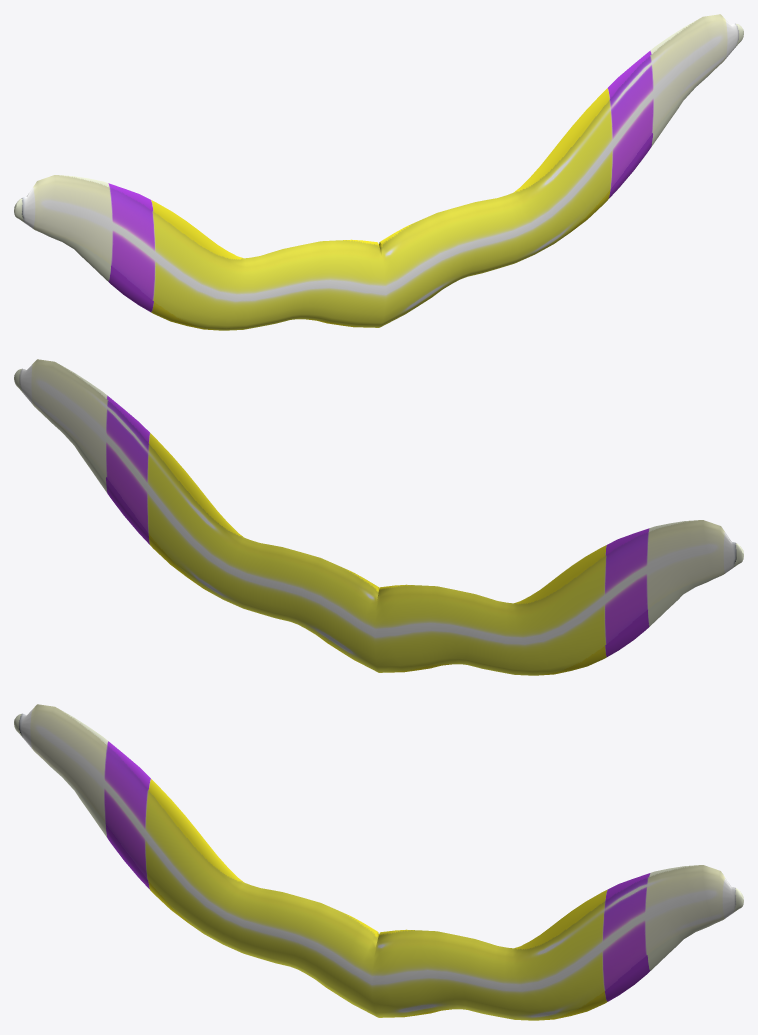
The model's file is Boomerang_12_Thunderbolt.obj.
3 renders of one model, top to bottom at view 1: azimuth 30°, elevation 25°; view 2: azimuth 150°, elevation 25°; view 3: azimuth 330°, elevation 25°, orthographic.
Visible parts, largest first — view 1: Boomerang_12_Thunderbolt; view 2: Boomerang_12_Thunderbolt; view 3: Boomerang_12_Thunderbolt.
Boxes of the visible parts, x1,y1,x2,y2 form: Boomerang_12_Thunderbolt: (14,14,743,330); Boomerang_12_Thunderbolt: (14,359,743,675); Boomerang_12_Thunderbolt: (14,704,743,1020).
Bounding box in the file's own units: 2.05 × 0.6227 × 0.0541.
1 material, 1 textured.
